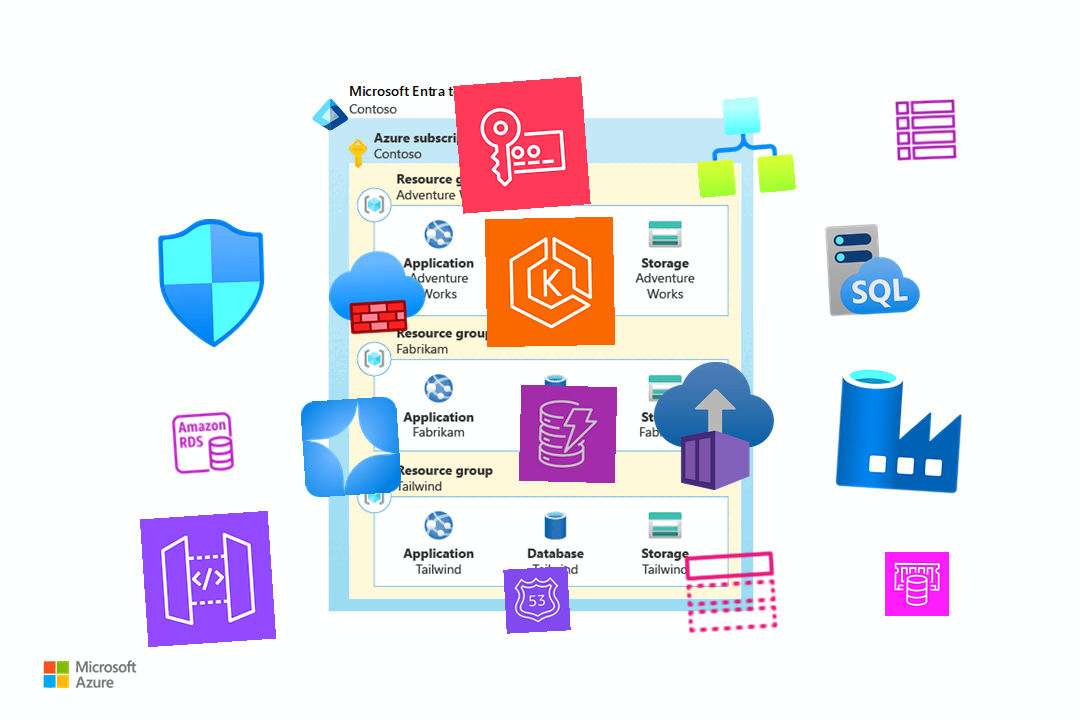aws_amazon_api_gateway: (139, 510, 277, 648)
aws_amazon_dynamodb: (518, 384, 618, 484)
aws_amazon_elastic_kubernetes_service: (484, 216, 616, 348)
aws_amazon_elasticache: (884, 551, 950, 617)
aws_amazon_route_53: (503, 566, 571, 634)
aws_aurora_amazon_rds_instance: (168, 408, 238, 478)
aws_dynamodb_table: (892, 96, 960, 164)
aws_key_management_service: (453, 76, 591, 214)
aws_simple_notification_service_topic: (680, 541, 782, 643)
azure_container_instances: (649, 361, 779, 491)
azure_data_factories: (832, 361, 968, 497)
azure_firewalls: (326, 241, 428, 343)
azure_logic_apps: (692, 94, 796, 198)
azure_network_security_groups: (145, 216, 279, 350)
azure_openai: (299, 395, 403, 499)
azure_sql_managed_instance: (822, 218, 924, 320)
